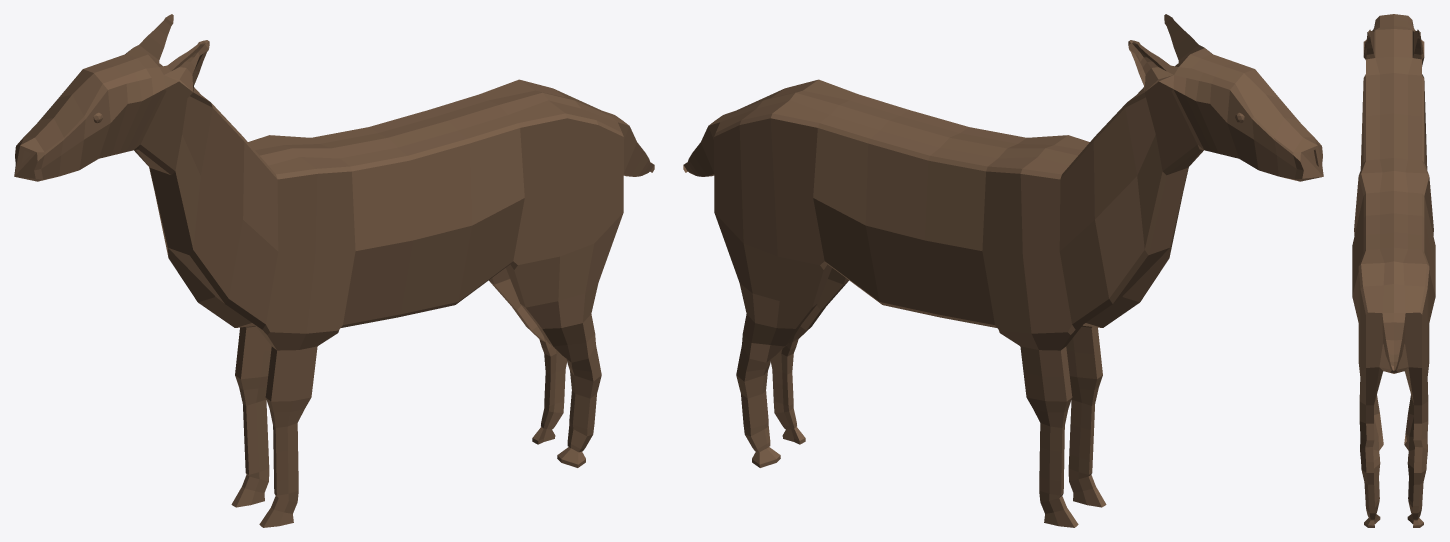
The model's file is visayanspotteddeersnohorn (1).fbx.
The picture shows the model from 3 angles, left to right: view 1: azimuth 30°, elevation 25°; view 2: azimuth 150°, elevation 25°; view 3: azimuth 270°, elevation 25°; orthographic projection. The views are drawn at different scales.
Visible parts, largest first — view 1: Plane; view 2: Plane; view 3: Plane.
Part boxes in pixels (x1,y1,x2,y2): Plane: (14, 14, 654, 527); Plane: (683, 14, 1323, 527); Plane: (1352, 14, 1435, 527).
Size of the model in its own units: 368 by 284 by 58.61.
